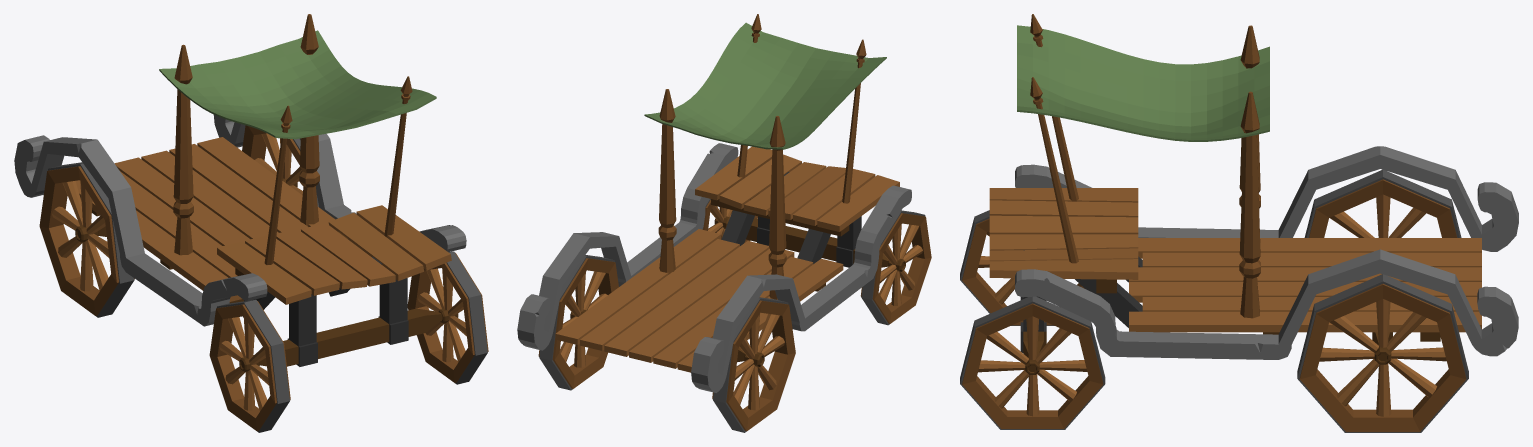
The model's file is C_B_CarriageGreen.fbx.
3 views of the same model, side by side, from view 1: azimuth 30°, elevation 25°; view 2: azimuth 150°, elevation 25°; view 3: azimuth 270°, elevation 25° (orthographic). The views are drawn at different scales.
Visible parts, largest first — view 1: C_B_CarriageGreen, C_Wheel.006, C_Wheel.003, C_Wheel.002, C_Wheel.001; view 2: C_B_CarriageGreen, C_Wheel.006, C_Wheel.003, C_Wheel.001, C_Wheel.002; view 3: C_B_CarriageGreen, C_Wheel.001, C_Wheel.002, C_Wheel.006, C_Wheel.003.
Boxes of the visible parts, x1,y1,x2,y2 form: C_B_CarriageGreen: (14,14,466,366); C_Wheel.006: (39,162,134,317); C_Wheel.003: (209,299,290,432); C_Wheel.002: (407,251,488,384); C_Wheel.001: (242,125,318,206); C_B_CarriageGreen: (517,14,911,392); C_Wheel.006: (712,297,795,432); C_Wheel.003: (860,210,931,325); C_Wheel.001: (538,255,618,390); C_Wheel.002: (702,198,757,242); C_B_CarriageGreen: (989,14,1518,359); C_Wheel.001: (1297,274,1468,432); C_Wheel.002: (960,296,1105,429); C_Wheel.006: (1304,169,1461,237); C_Wheel.003: (960,210,1084,325).
Bounding box in the file's own units: 299 × 403 × 617.
